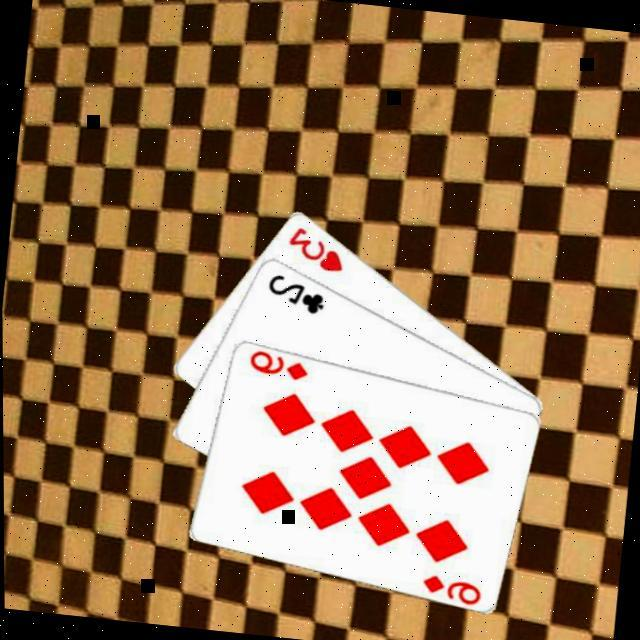2C: (261, 267, 327, 315)
3H: (280, 220, 348, 274)
9D: (242, 344, 310, 382), (416, 568, 483, 604)
